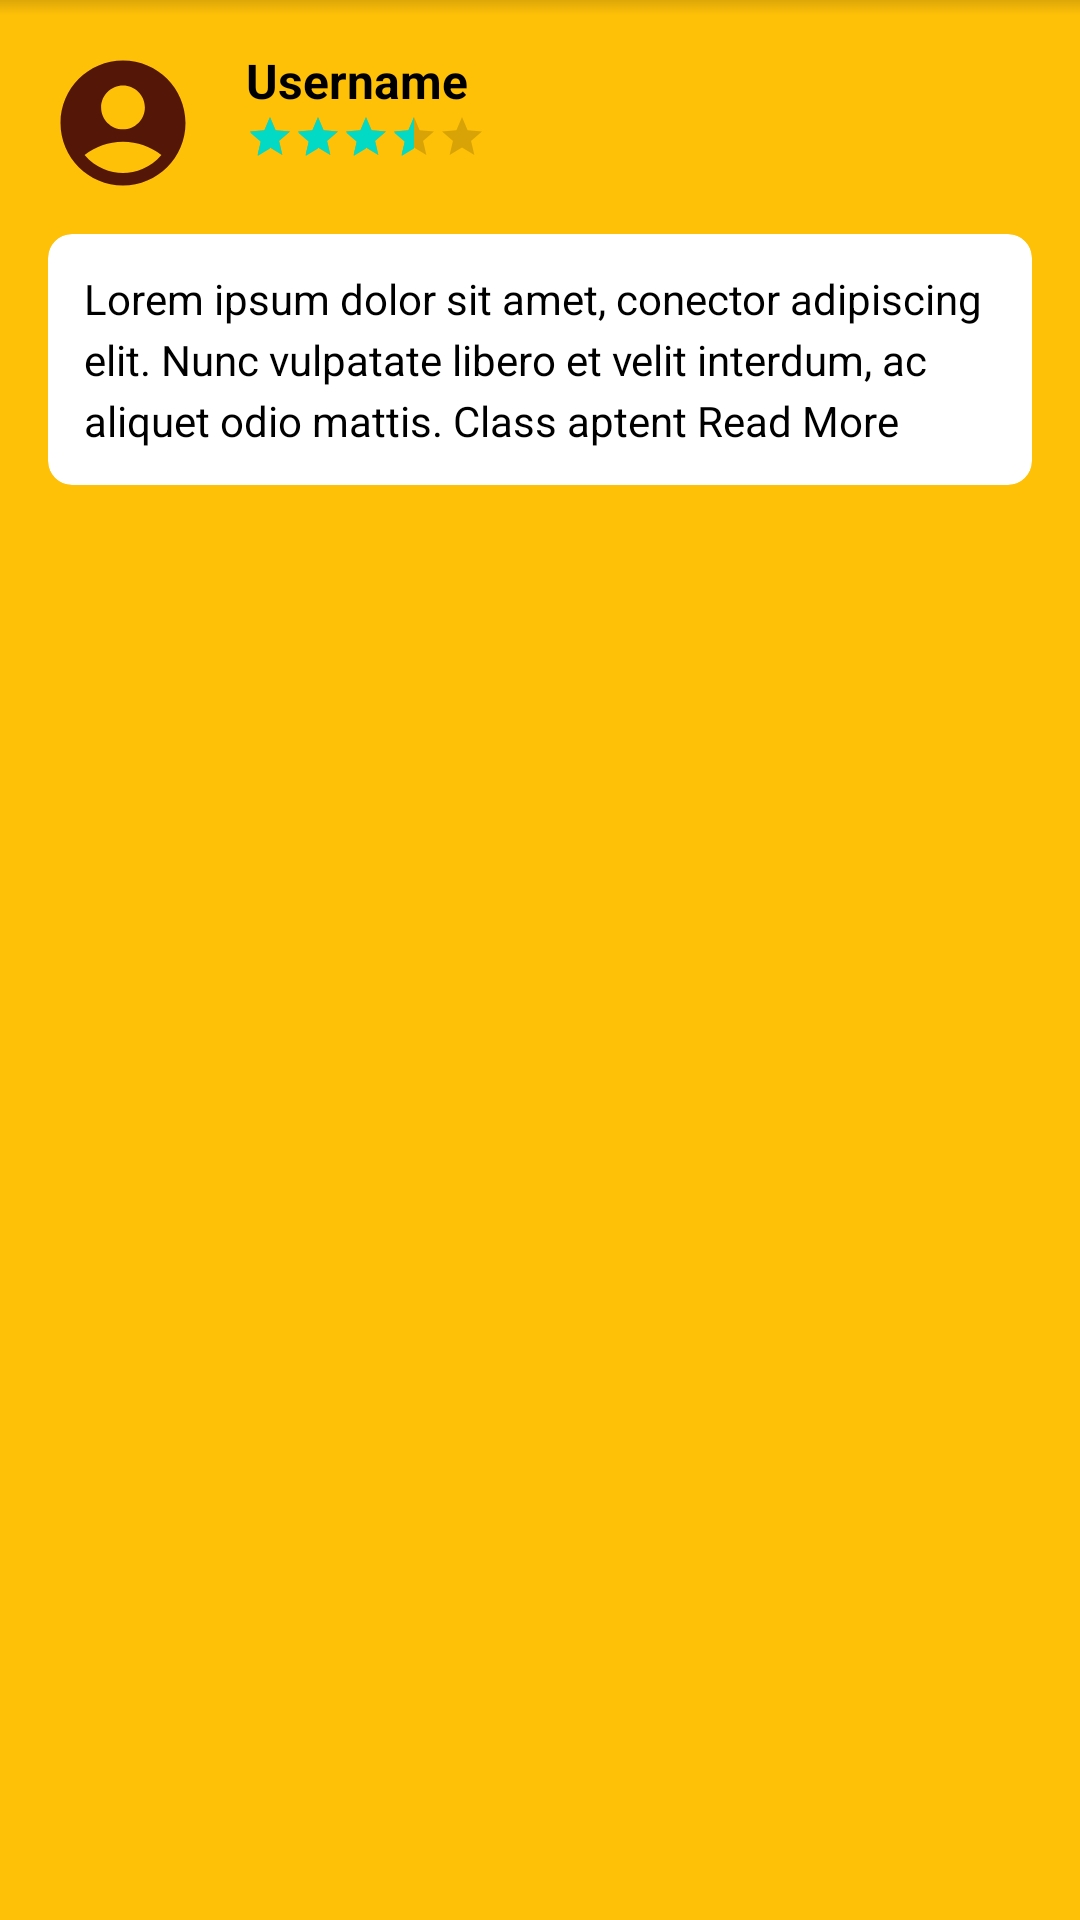

Icon bounding boxes for this 1080px x 1920px phone screenshot, format [x1,y1,x2,y2]:
account circle: [60,60,186,186]
